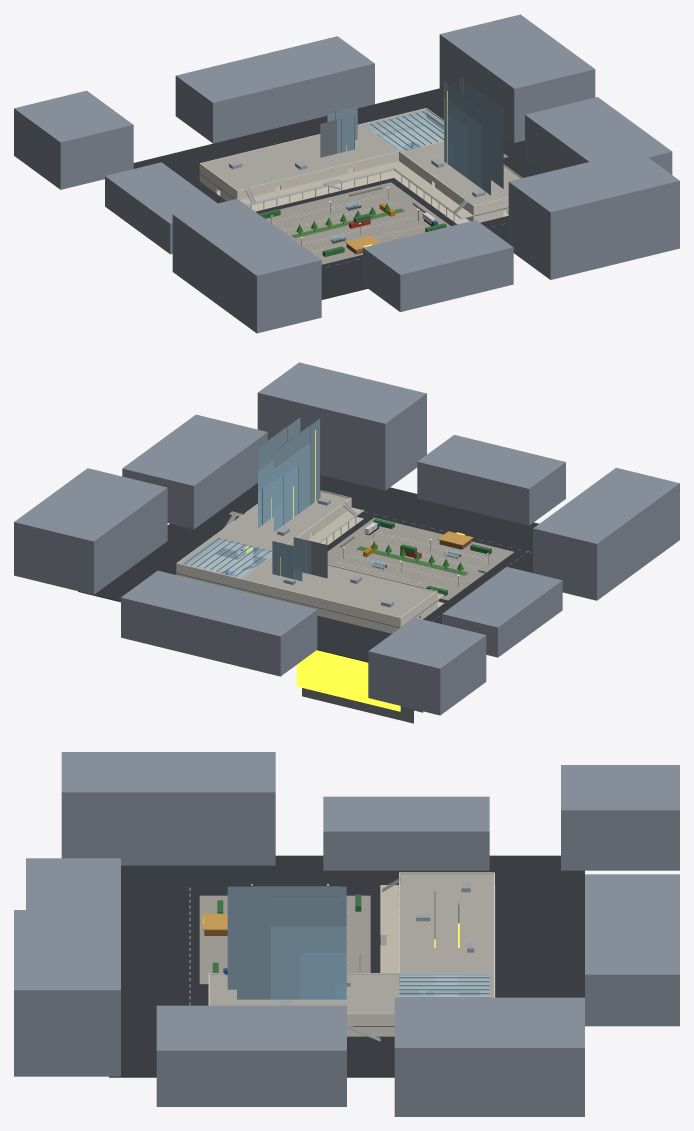
Rendered from map.glb.
3 renders of one model, top to bottom at view 1: azimuth 30°, elevation 25°; view 2: azimuth 150°, elevation 25°; view 3: azimuth 270°, elevation 25°, orthographic. The views are drawn at different scales.
Parts seen in each view (by area): view 1: deco_lointain_s34, deco_lointain_s2-2, deco_lointain_s-13, deco_lointain_s50, deco_lointain_s14, deco_lointain_s-1-2, sol_asphalte_sX, deco_lointain_s42, sol_trottoir_sX, deco_lointain_s-11, deco_facade_gris_s32, sol_toit_sX (+21 smaller); view 2: deco_lointain_s34, deco_lointain_s50, deco_lointain_s2-2, sol_asphalte_sX, deco_lointain_s-13, deco_lointain_s42, deco_lointain_s14, deco_lointain_s-1-2, sol_trottoir_sX, deco_lointain_s-11, deco_facade_gris_s32, sol_toit_sX (+17 smaller); view 3: sol_asphalte_sX, deco_lointain_s-13, deco_lointain_s50, deco_lointain_s42, deco_lointain_s34, deco_lointain_s2-2, deco_lointain_s-1-2, deco_lointain_s-11, deco_facade_gris_s32, VITRINE_plz_10_v2, sol_toit_sX, VITRINE_plz_10_v1 (+11 smaller).
Boxes of the visible parts, x1,y1,x2,y2 form: deco_lointain_s34: (508, 150, 679, 279); deco_lointain_s2-2: (175, 36, 374, 143); deco_lointain_s-13: (172, 198, 321, 333); deco_lointain_s50: (439, 14, 595, 142); deco_lointain_s14: (363, 220, 513, 311); deco_lointain_s-1-2: (14, 90, 133, 189); sol_asphalte_sX: (133, 88, 543, 299); deco_lointain_s42: (525, 97, 672, 174); sol_trottoir_sX: (265, 182, 450, 264); deco_lointain_s-11: (105, 162, 217, 254); deco_facade_gris_s32: (444, 76, 503, 195); sol_toit_sX: (202, 125, 397, 190); deco_lointain_s34: (257, 362, 426, 490); deco_lointain_s50: (14, 468, 167, 594); deco_lointain_s2-2: (121, 570, 317, 676); sol_asphalte_sX: (78, 475, 538, 662); deco_lointain_s-13: (533, 467, 679, 600); deco_lointain_s42: (122, 414, 267, 529); deco_lointain_s14: (417, 435, 565, 525); deco_lointain_s-1-2: (368, 617, 486, 715); sol_trottoir_sX: (327, 517, 513, 600); deco_lointain_s-11: (442, 567, 562, 657); deco_facade_gris_s32: (258, 417, 320, 523); sol_toit_sX: (242, 557, 434, 617); sol_asphalte_sX: (109, 855, 584, 1077); deco_lointain_s-13: (61, 752, 275, 865); deco_lointain_s50: (394, 997, 584, 1116); deco_lointain_s42: (156, 1005, 346, 1106); deco_lointain_s34: (14, 910, 120, 1076); deco_lointain_s2-2: (585, 874, 679, 1026); deco_lointain_s-1-2: (561, 765, 679, 870); deco_lointain_s-11: (323, 796, 489, 870); deco_facade_gris_s32: (227, 886, 346, 999); VITRINE_plz_10_v2: (237, 896, 346, 999); sol_toit_sX: (399, 874, 493, 975); VITRINE_plz_10_v1: (270, 927, 346, 999).
Size of the model in its own units: 290 by 117 by 280.
